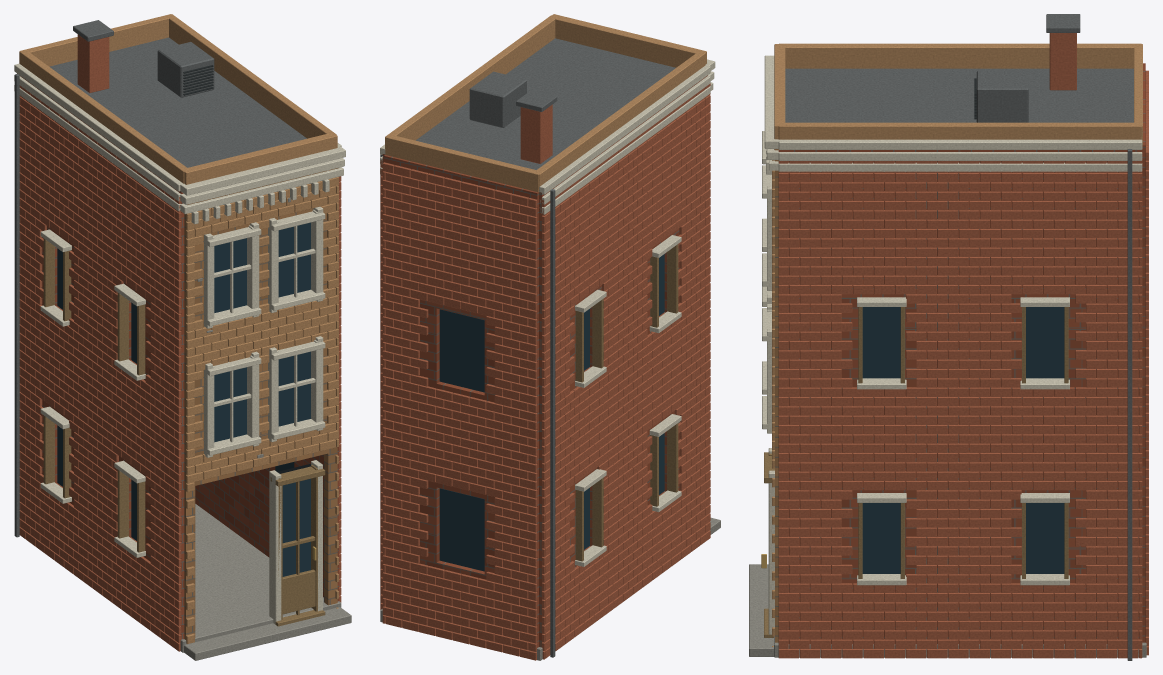
File: VICT31_lod0.glb
3 renders of one model, left to right at view 1: azimuth 30°, elevation 25°; view 2: azimuth 150°, elevation 25°; view 3: azimuth 270°, elevation 25°, orthographic. The views are drawn at different scales.
Parts seen in each view (by area): view 1: VICT31_LOD0; view 2: VICT31_LOD0; view 3: VICT31_LOD0.
Part boxes in pixels (x1=…): VICT31_LOD0: x1=14, y1=14, x2=351, y2=660; VICT31_LOD0: x1=380, y1=14, x2=720, y2=660; VICT31_LOD0: x1=749, y1=14, x2=1148, y2=660.
Bounding box in the file's own units: 3.71 × 10.45 × 6.6.
16 materials, 13 textured.
